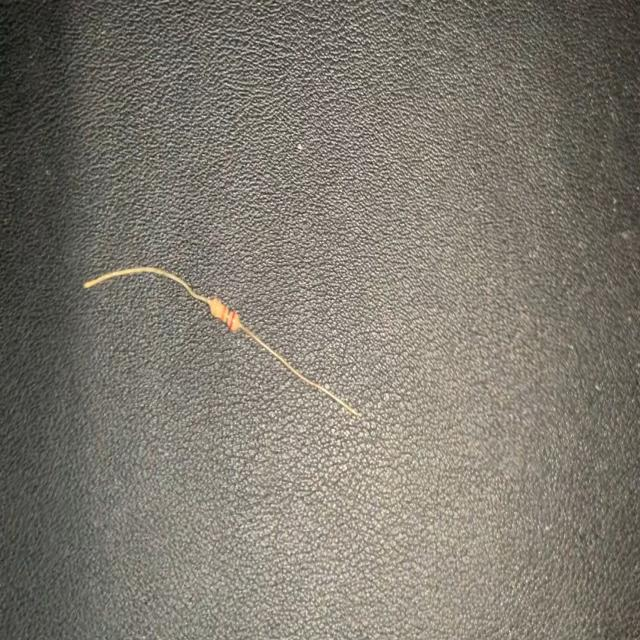resistor: (83, 261, 361, 417)
